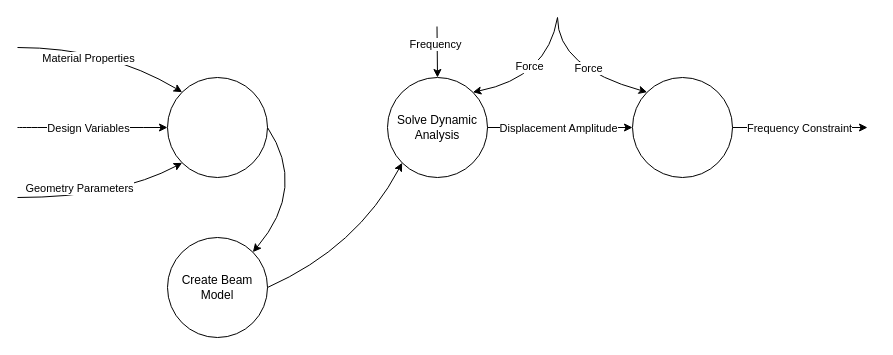
The diagram is 893 pixels wide and 355 high, and some of its shapes have lost their labels. Here are the shapes that lost their labels. From the top down, the centre of each, then its label:
At point 217,127: "Solve Drone Geometry".
At point 682,127: "Calculate Frequency Constraint".
